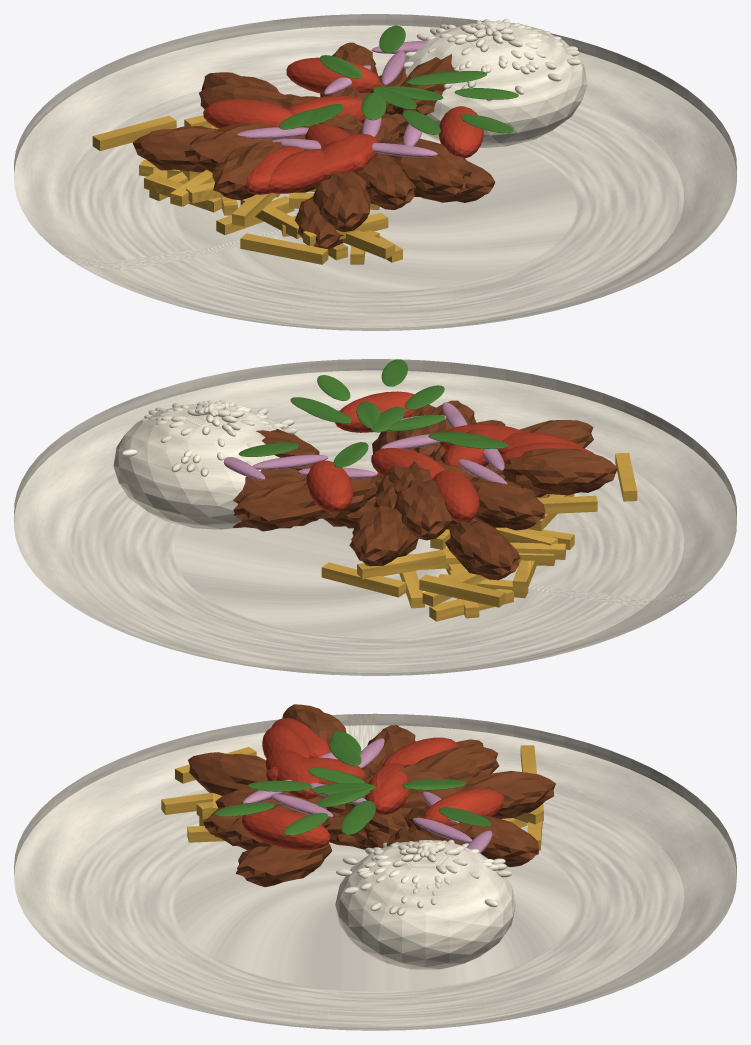
The model's file is lomo.glb.
The picture shows the model from 3 angles, top to bottom: view 1: azimuth 30°, elevation 25°; view 2: azimuth 150°, elevation 25°; view 3: azimuth 270°, elevation 25°; orthographic projection.
Visible parts, largest first — view 1: ceramic, meat, rice, tomato, fries, leaf, onion; view 2: ceramic, meat, rice, fries, tomato, leaf, onion; view 3: ceramic, meat, rice, tomato, leaf, fries, onion.
Part boxes in pixels (x1,y1,x2,y2): ceramic: (14,14,736,330); meat: (133,42,495,250); rice: (403,18,587,147); tomato: (203,57,483,194); fries: (92,115,402,264); leaf: (279,25,518,134); onion: (237,41,437,157); ceramic: (14,359,736,675); meat: (233,400,617,580); rice: (113,400,297,529); fries: (321,452,637,621); tomato: (306,391,593,521); leaf: (238,359,508,467); onion: (223,402,507,484); ceramic: (14,713,736,1030); meat: (188,704,555,887); rice: (335,840,515,969); tomato: (242,718,503,850); leaf: (214,731,491,835); fries: (161,745,543,850); onion: (243,738,492,853).
Size of the model in its own units: 2.88 by 0.5787 by 2.88.
7 materials, 7 textured.
